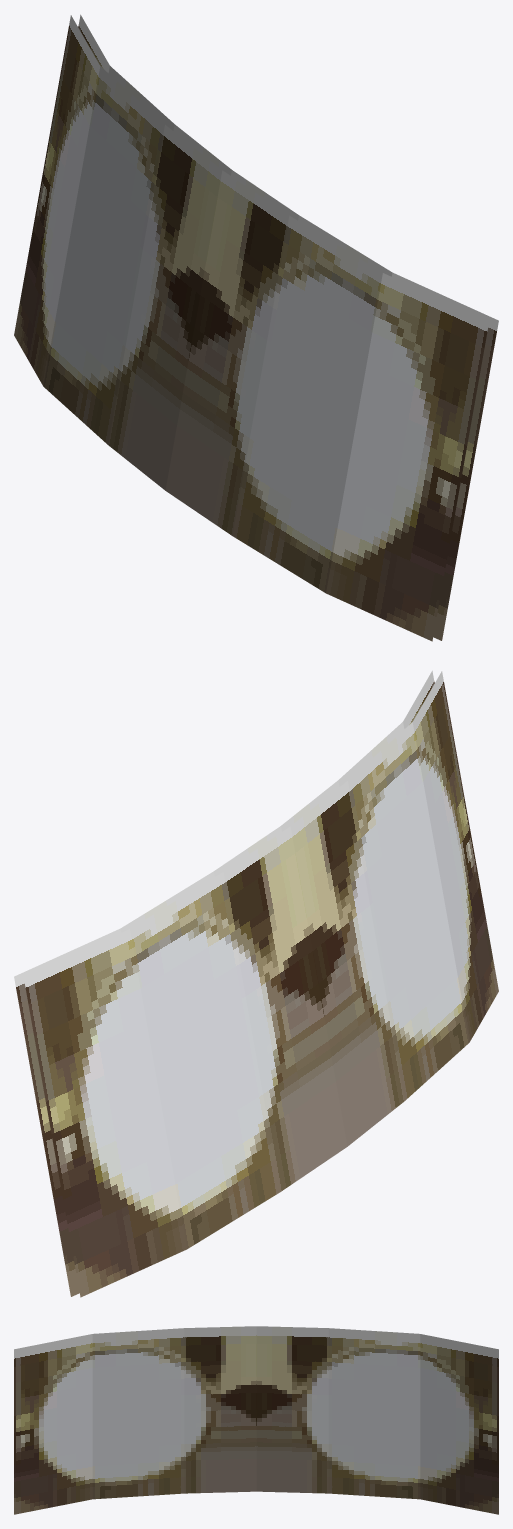
Rendered from Whale_glasses.obj.
3 views of the same model, one above another, from view 1: azimuth 30°, elevation 25°; view 2: azimuth 150°, elevation 25°; view 3: azimuth 270°, elevation 25° (orthographic). The views are drawn at different scales.
Visible parts, largest first — view 1: Whale_glasses_tri; view 2: Whale_glasses_tri; view 3: Whale_glasses_tri.
Boxes of the visible parts, bbox=[...] form: Whale_glasses_tri: bbox=[14, 14, 498, 641]; Whale_glasses_tri: bbox=[14, 670, 498, 1297]; Whale_glasses_tri: bbox=[14, 1326, 498, 1514].
Size of the model in its own units: 0.0406 by 0.1001 by 0.2369.
Materials: 1 (1 with a texture image).
